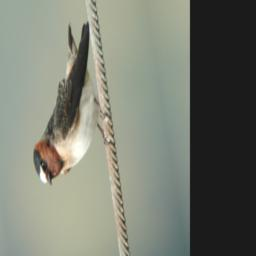Swallow: (11, 15, 117, 197)
